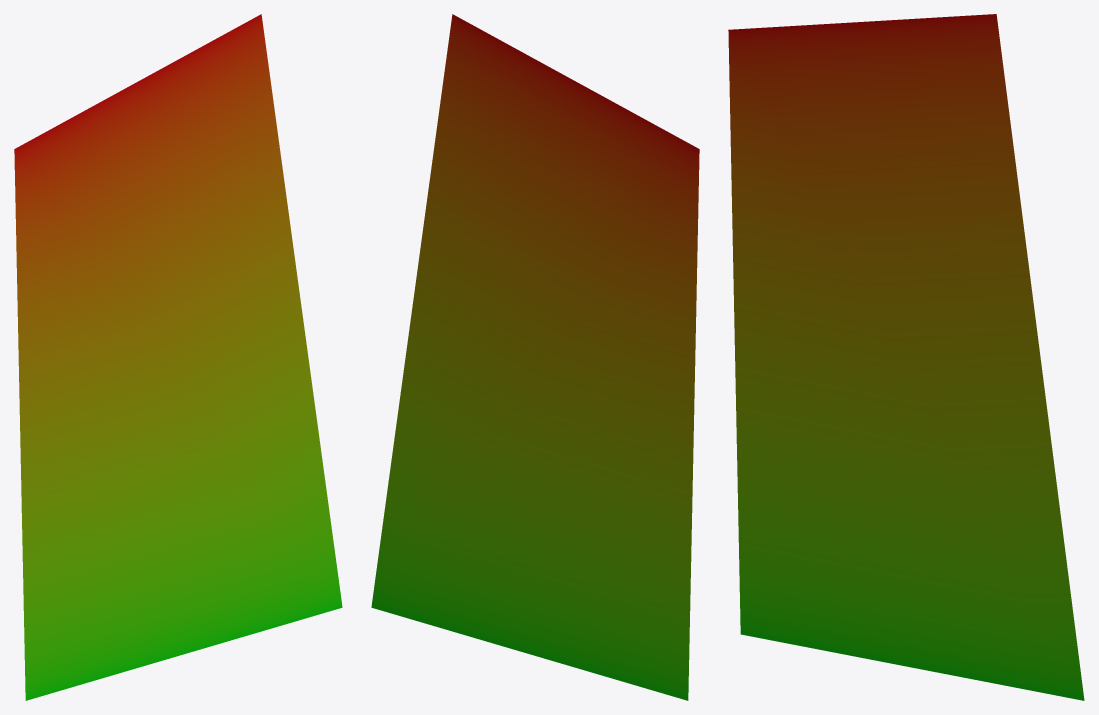
The model's file is Wheat_LOD3_Var5_smdoejyr.fbx.
3 views of the same model, side by side, from view 1: azimuth 30°, elevation 25°; view 2: azimuth 150°, elevation 25°; view 3: azimuth 330°, elevation 25° (orthographic). The views are drawn at different scales.
Visible parts, largest first — view 1: _durk_Var5_LOD3; view 2: _durk_Var5_LOD3; view 3: _durk_Var5_LOD3.
Part boxes in pixels (x1,y1,x2,y2): _durk_Var5_LOD3: (14,14,342,700); _durk_Var5_LOD3: (371,14,699,700); _durk_Var5_LOD3: (728,14,1084,700).
Size of the model in its own units: 29.77 by 54.56 by 2.9e-06.
